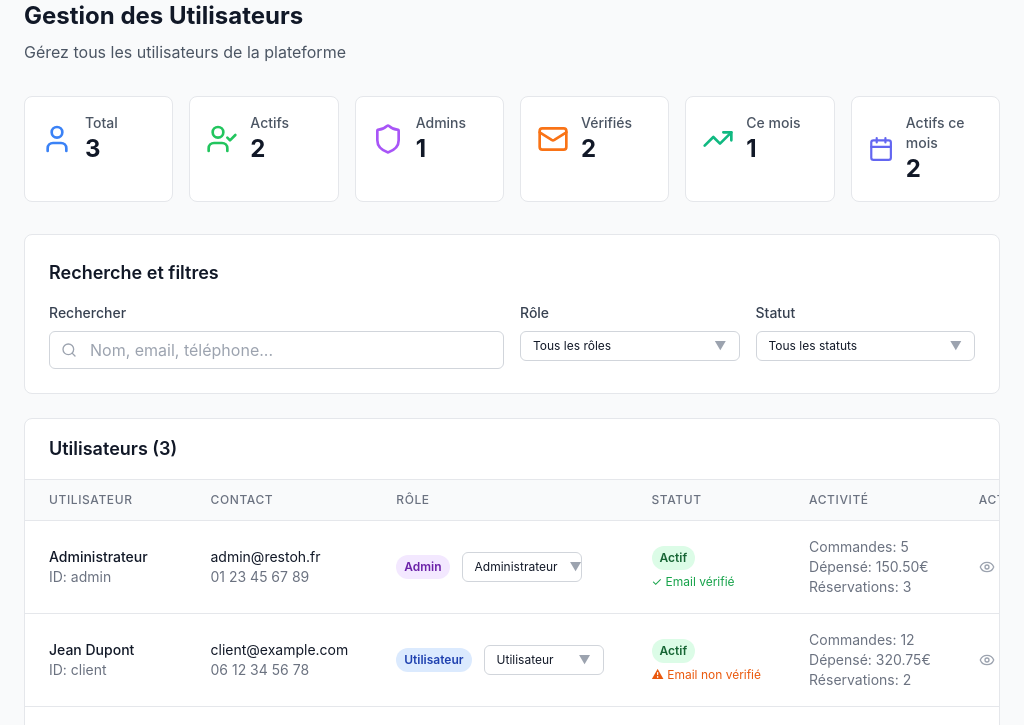
Test: UsersManagement Component › User Actions › should open user details modal when eye icon is clicked
(page scrolled)
Click on first "Voir les détails" button
Click the button titled "Voir les détails" in the row of "admin@restoh.fr" at (987,567), box [979,559,995,575]
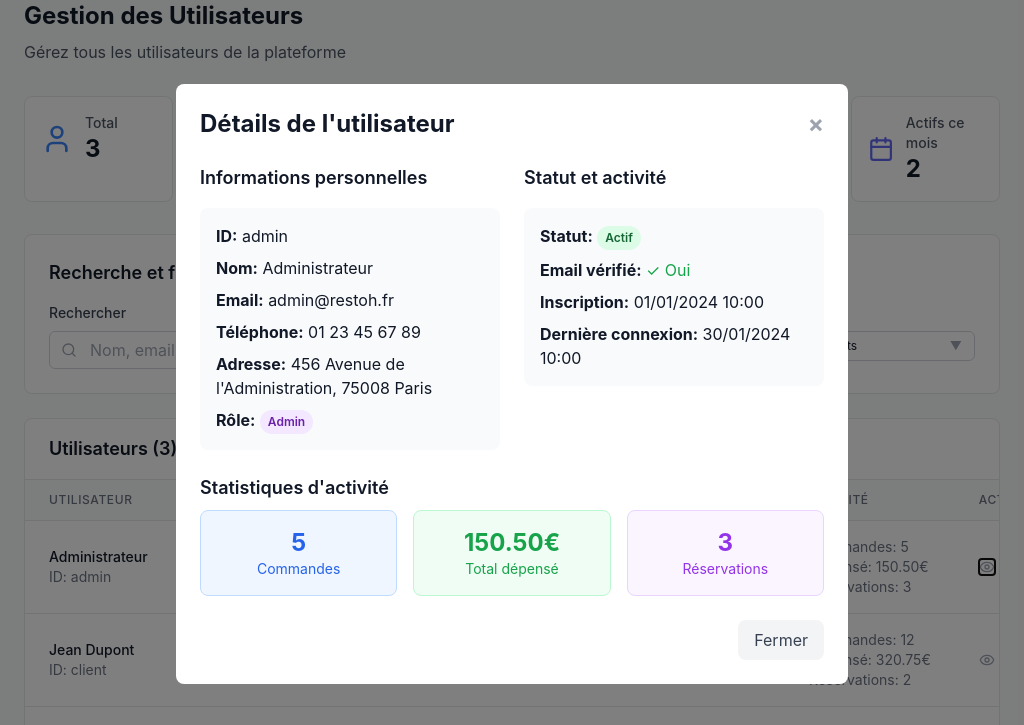
expect the heading "Détails de l'utilisateur" is shown: met, box [200,108,454,140]
expect the heading "Informations personnelles" is shown: met, box [200,167,427,188]
